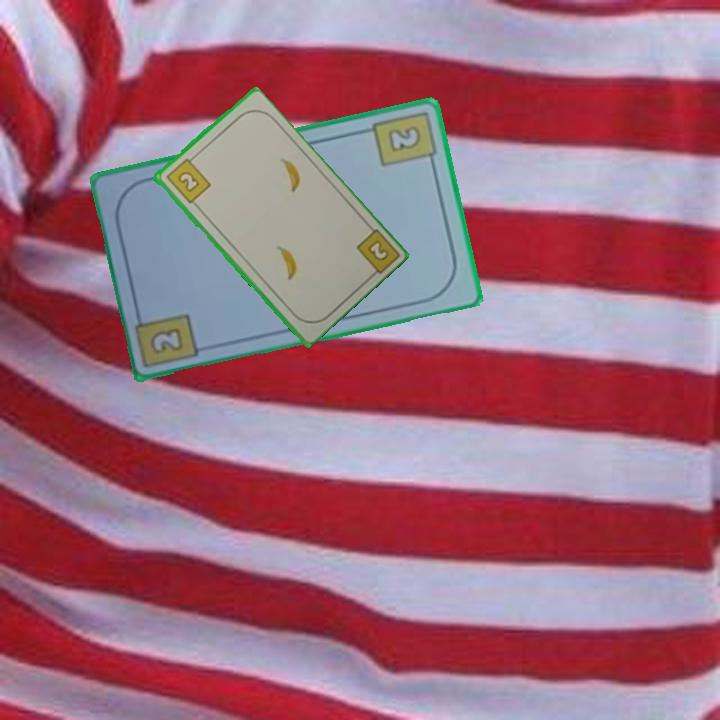2b: (368, 108, 439, 172), (162, 152, 213, 206), (146, 323, 187, 357), (363, 236, 392, 264)
